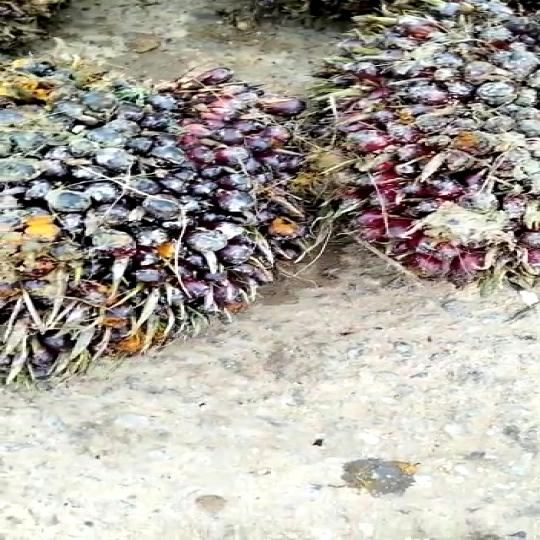kurang masak: (0, 50, 320, 386), (284, 0, 534, 300)
